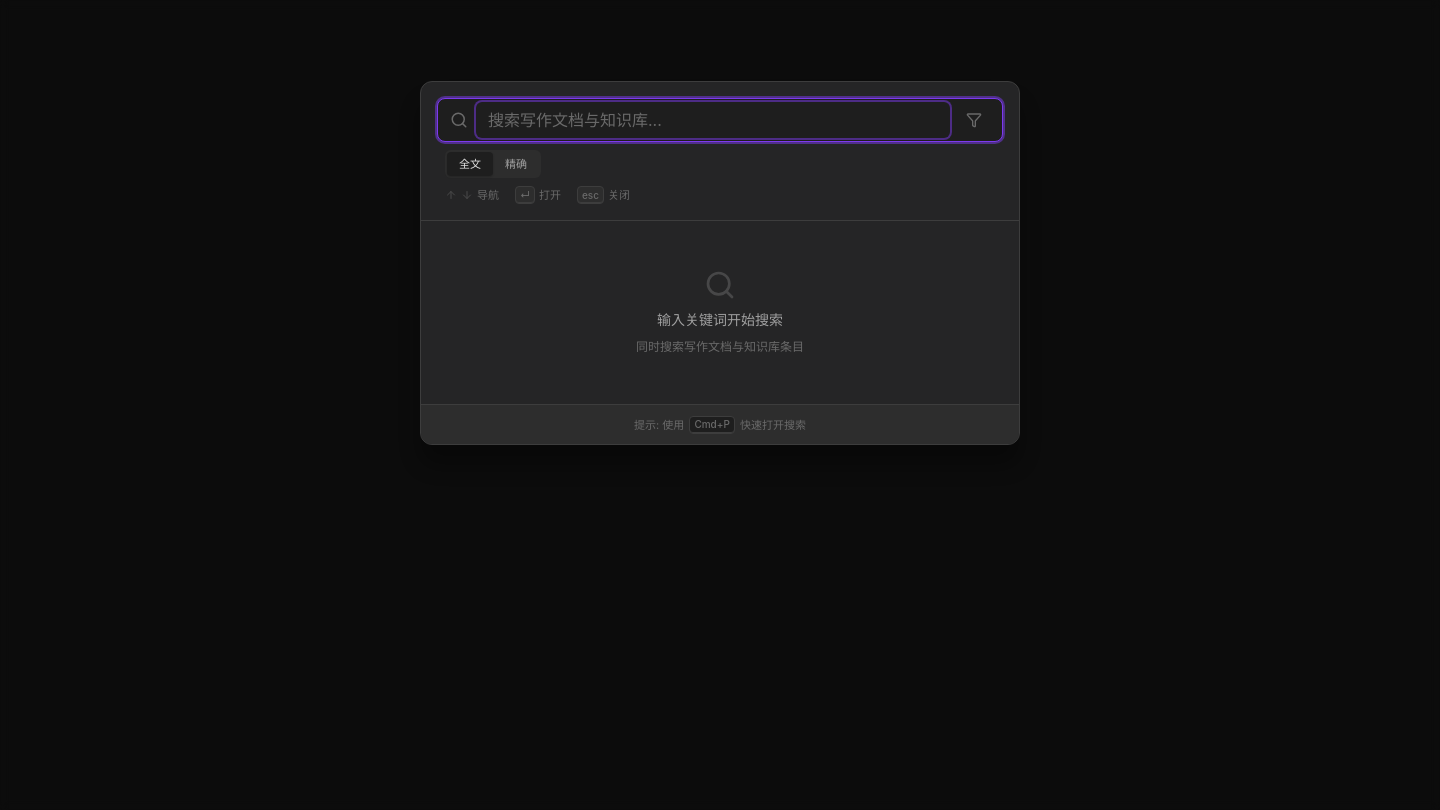
it: SearchPanel › 丢弃过期响应：先发出的慢请求不会覆盖新查询的结果
Type "old" into the field labelled "搜索" at [713, 120], box [476,102,950,138]
Wait 300 ms
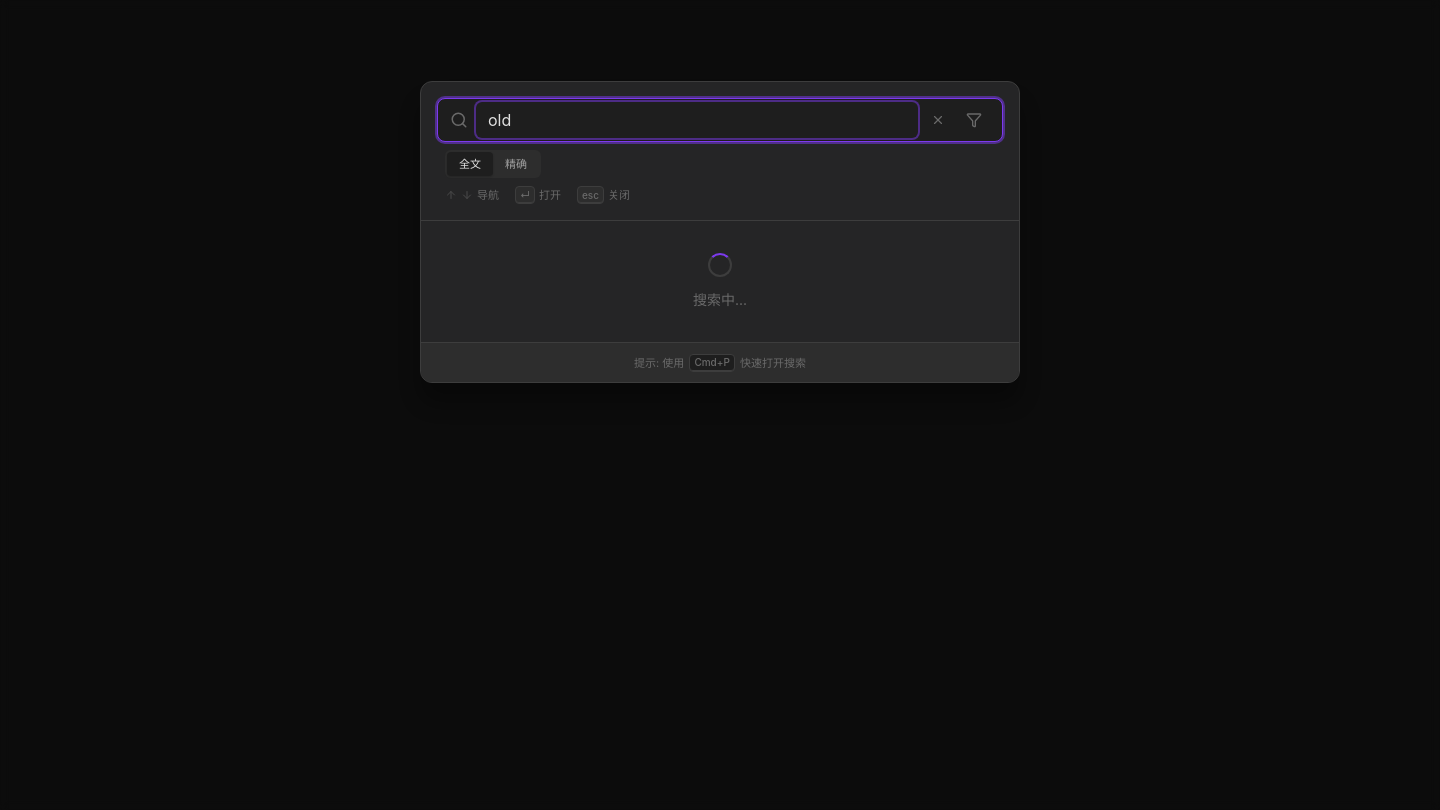
Replace the text in the field named "搜索" with "new" at [697, 120], box [476,102,918,138]
Wait 300 ms
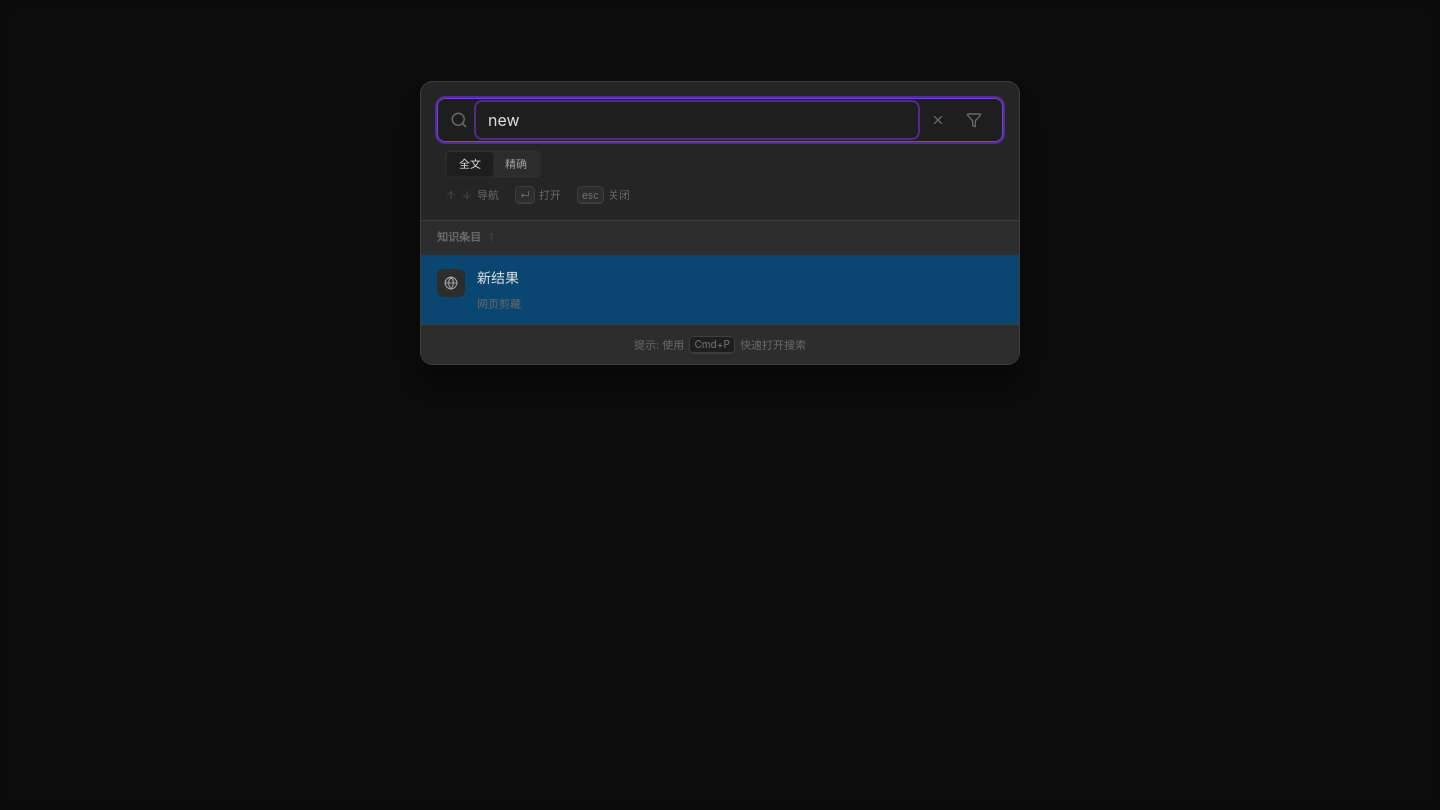
Expected: the text "新结果" is shown, [477,268,519,286]
